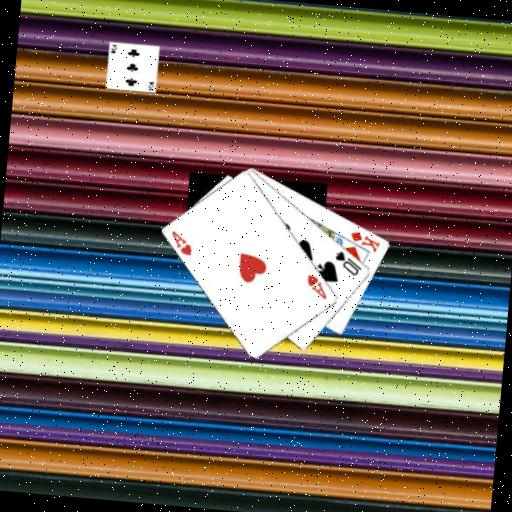10S: (331, 247, 365, 277)
AH: (167, 227, 196, 258), (302, 271, 331, 301)
KD: (346, 228, 382, 254)
